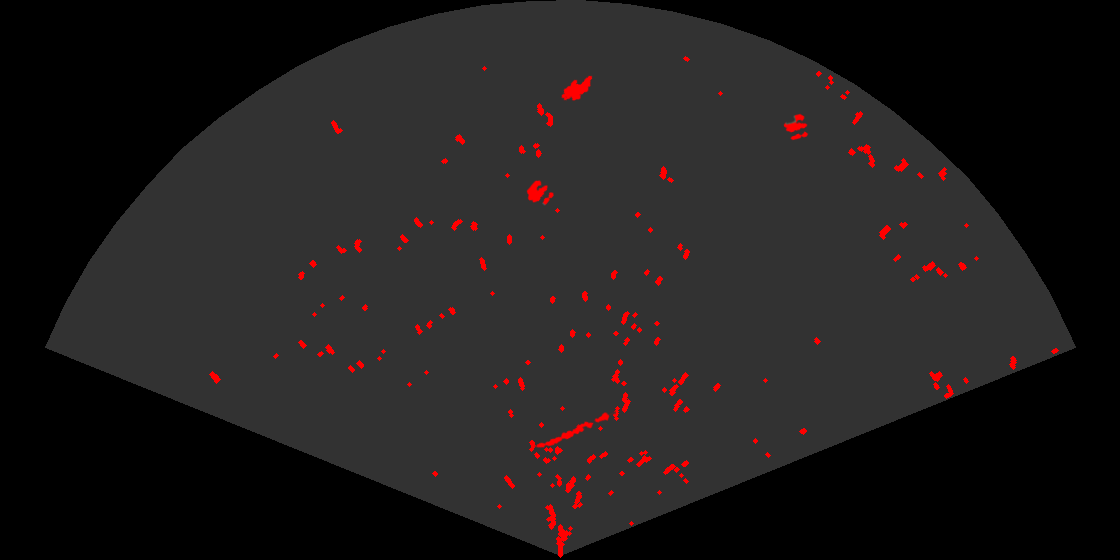AUV: (560, 74, 594, 102)
ball: (782, 112, 810, 142), (525, 179, 555, 206)
chain: (534, 410, 616, 449)
